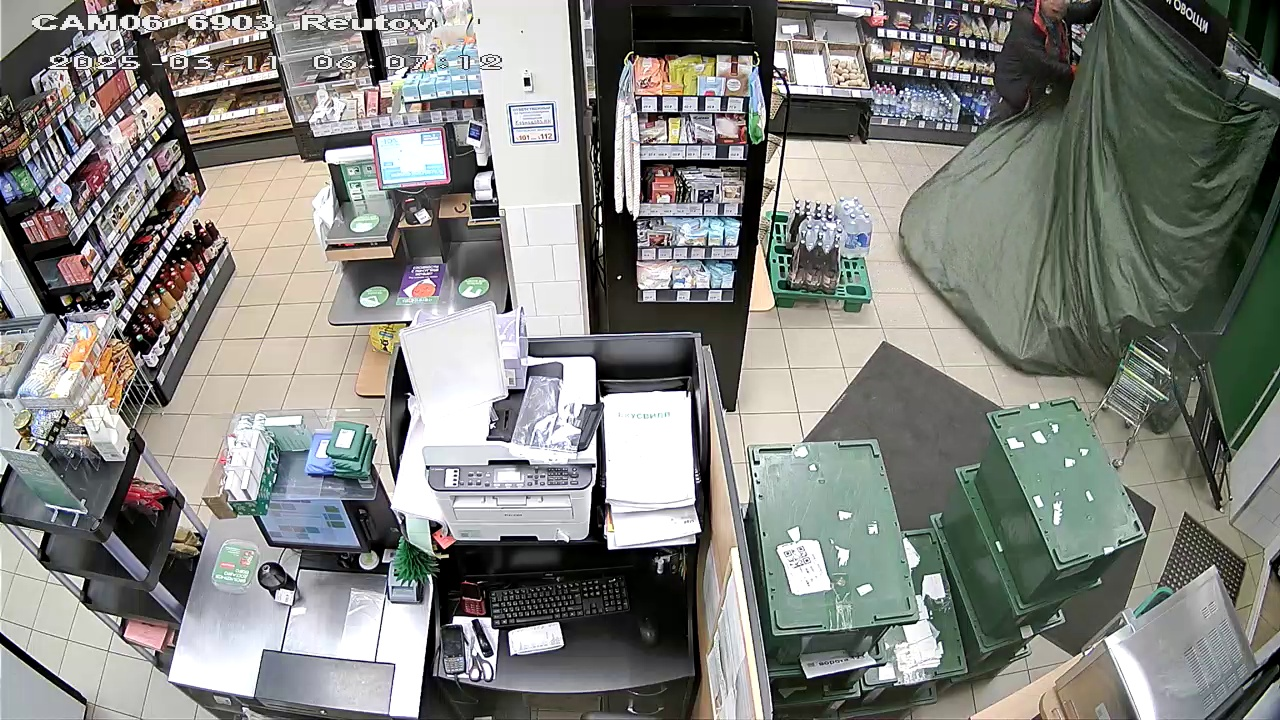Human: (998, 0, 1106, 117)
dome: (901, 7, 1276, 381)
